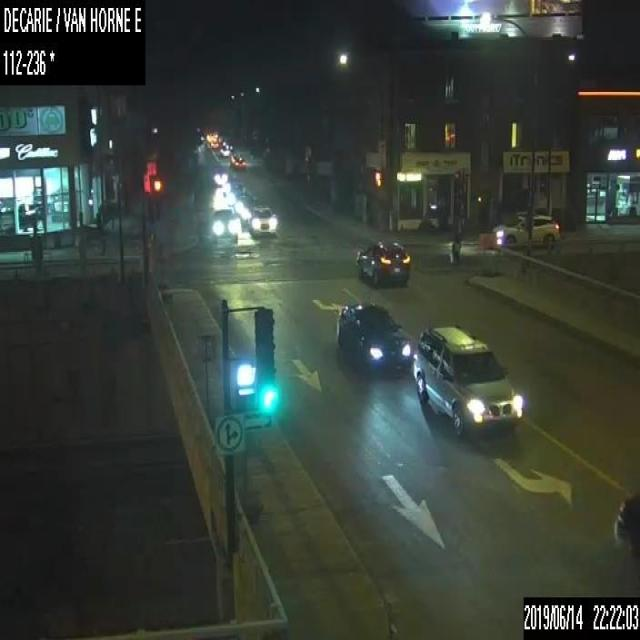construction: (235, 427, 262, 521), (194, 332, 216, 427), (488, 232, 498, 276), (479, 232, 488, 274)
pedestrian: (450, 235, 460, 265)
vehicle: (411, 324, 521, 435), (335, 302, 410, 366), (494, 213, 559, 250), (356, 240, 408, 285), (613, 491, 639, 558), (249, 204, 277, 236), (211, 207, 238, 239), (230, 152, 245, 169), (219, 142, 231, 156), (529, 213, 530, 215)
